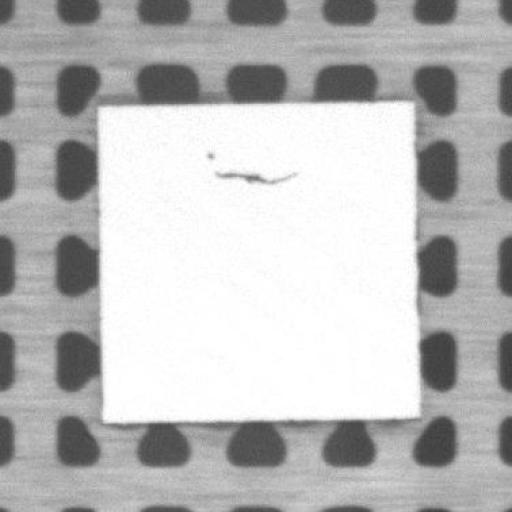DIE_INK: (206, 159, 297, 185)
